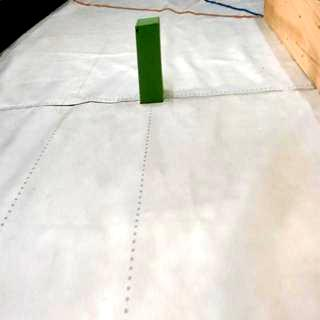greenbox: (136, 20, 163, 104)
